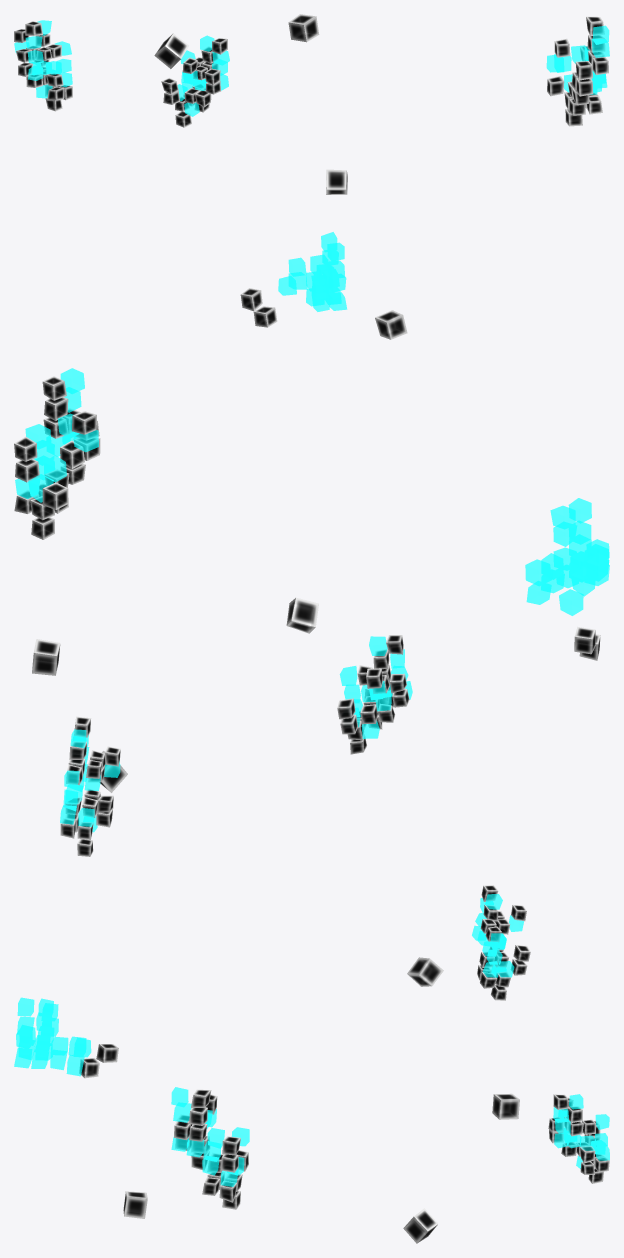
The model's file is p_mesh_controlstation_hologram_clustercubes_pose0.fbx.
The picture shows the model from 3 angles, top to bottom: view 1: azimuth 30°, elevation 25°; view 2: azimuth 150°, elevation 25°; view 3: azimuth 270°, elevation 25°; orthographic projection. The views are drawn at different scales.
Visible parts, largest first — view 1: hologram1_cubes01_pose0; view 2: hologram1_cubes01_pose0; view 3: hologram1_cubes01_pose0.
Part boxes in pixels (x1=…): hologram1_cubes01_pose0: x1=14, y1=14, x2=609, y2=339; hologram1_cubes01_pose0: x1=14, y1=368, x2=609, y2=856; hologram1_cubes01_pose0: x1=14, y1=885, x2=609, y2=1243.
Size of the model in its own units: 6.87 by 3.46 by 7.71.
